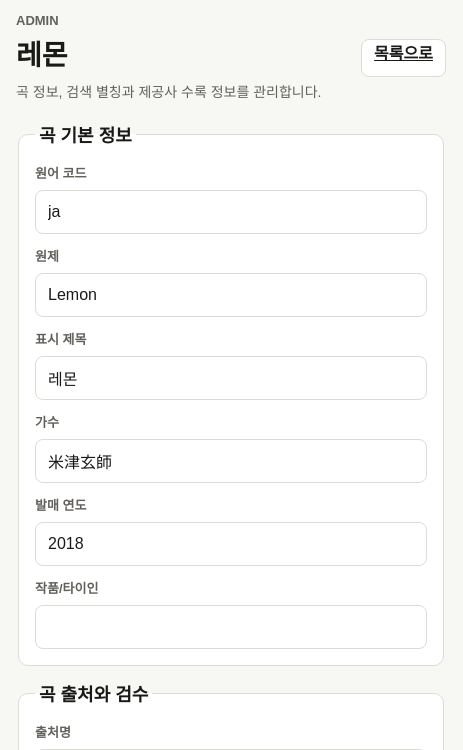
Test: administrator song detail page › preserves existing child ids in one atomic PATCH and shows the public-search link
Replace the text in the number field labelled "발매 연도" with "2019" at (231, 544), box [35,522,427,566]
(page scrolled)
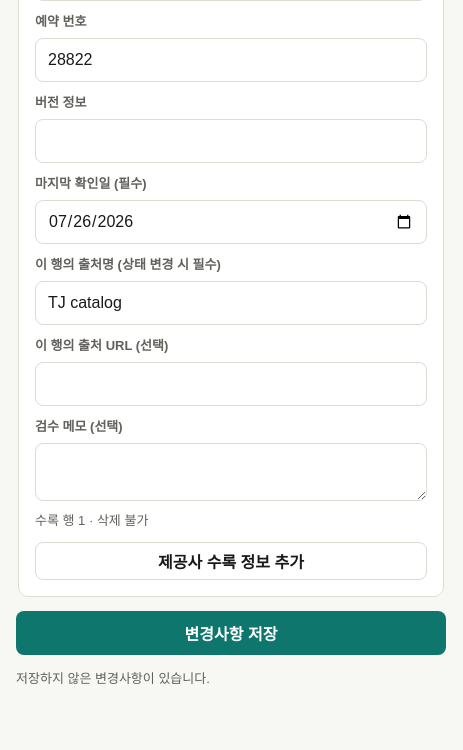
Check: the button "변경사항 저장" is enabled
Click the button "변경사항 저장" at (231, 633), box [16,611,446,655]
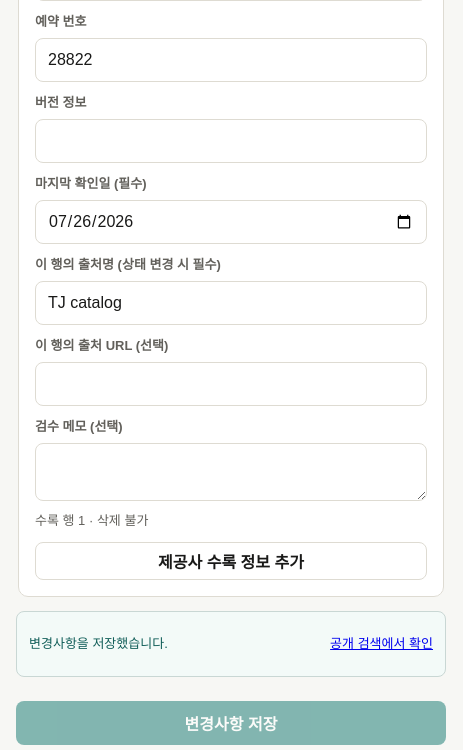
Check: the text "변경사항을 저장했습니다." is shown, box [29,635,168,653]
